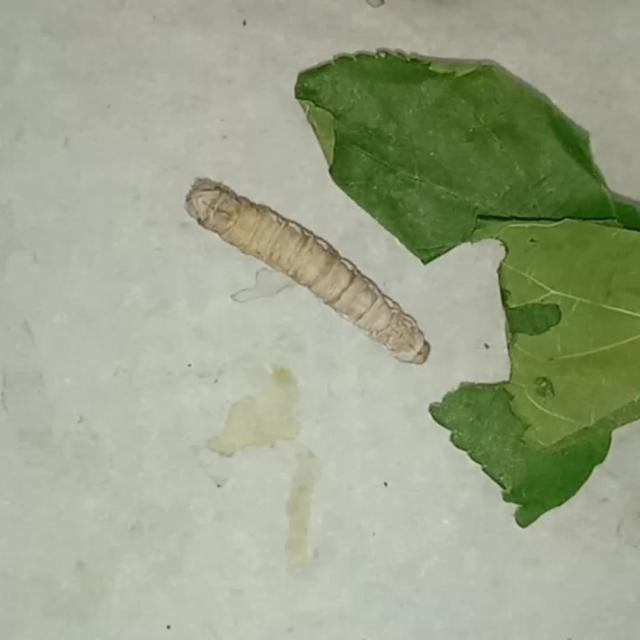Grasserie: (168, 129, 480, 411)
